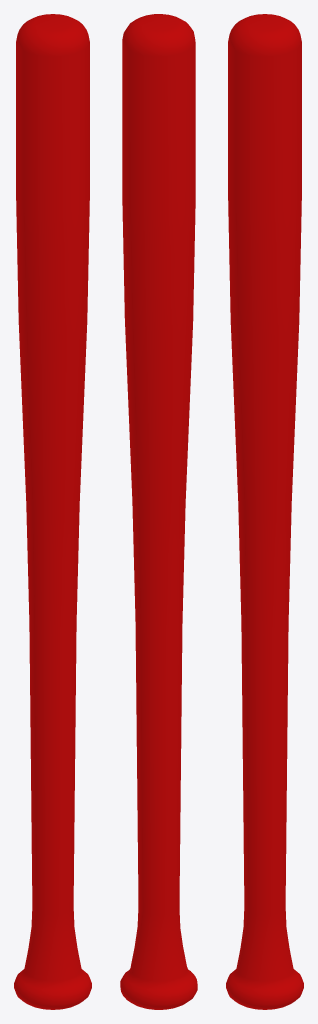
Rendered from SM_BaseballBat.glb.
3 renders of one model, left to right at view 1: azimuth 90°, elevation 25°; view 2: azimuth 210°, elevation 25°; view 3: azimuth 270°, elevation 25°, orthographic.
Visible parts, largest first — view 1: SM_BaseballBat_LOD0; view 2: SM_BaseballBat_LOD0; view 3: SM_BaseballBat_LOD0.
Boxes of the visible parts, left/top/right/bottom form: SM_BaseballBat_LOD0: left=14, top=14, right=91, bottom=1009; SM_BaseballBat_LOD0: left=120, top=14, right=197, bottom=1009; SM_BaseballBat_LOD0: left=226, top=14, right=303, bottom=1009.
Size of what is drawn, in the model's own units: 0.0826 by 1.14 by 0.0826.
